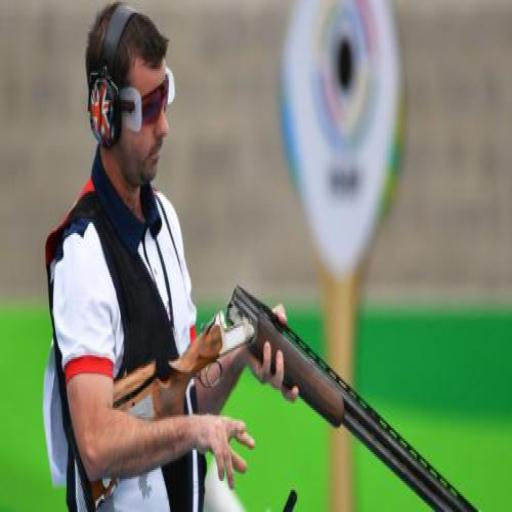shooting: (43, 2, 301, 510)
